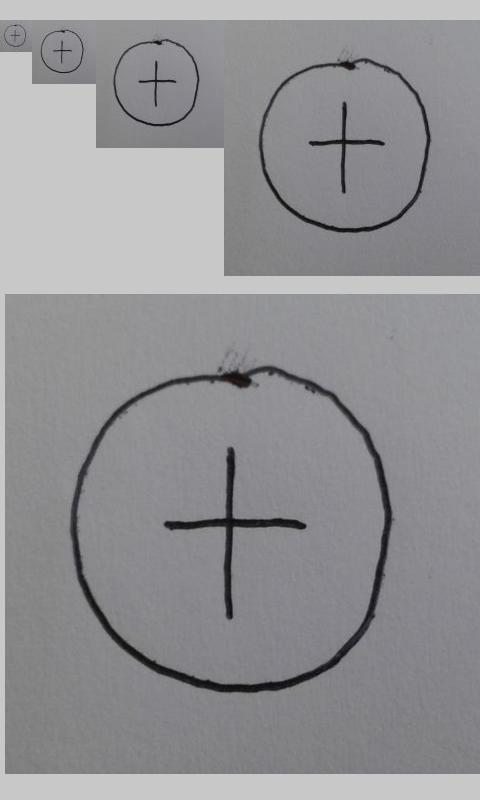button: (68, 363, 394, 697), (257, 57, 432, 234), (113, 38, 200, 127), (40, 29, 84, 74), (3, 24, 26, 47)
